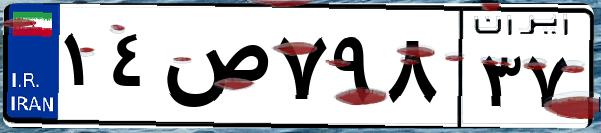1: (57, 26, 110, 100)
3: (475, 38, 525, 113)
4: (110, 28, 158, 98)
7: (270, 28, 330, 110), (525, 38, 570, 115)
8: (385, 28, 445, 110)
9: (330, 28, 385, 110)
ص: (158, 20, 270, 120)
